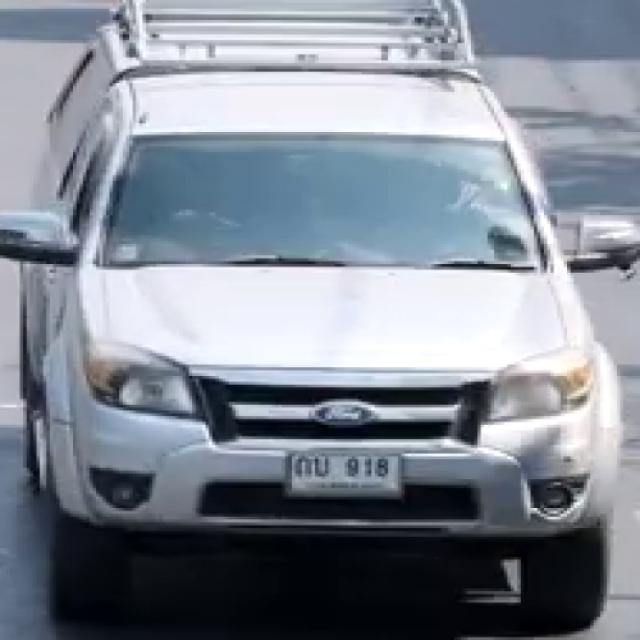plate: (289, 450, 406, 497)
